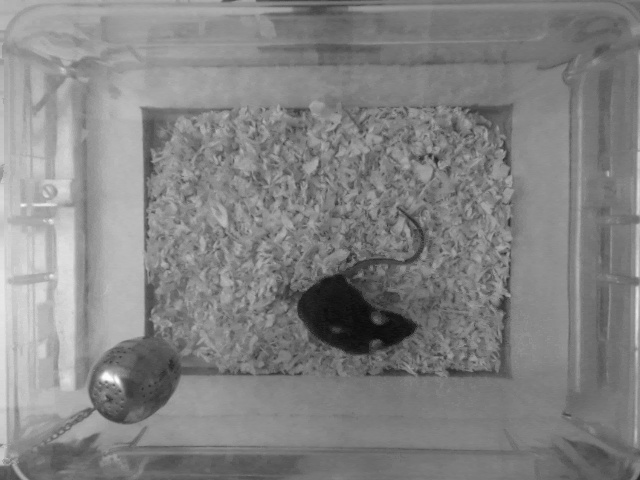mice: (286, 199, 423, 357)
